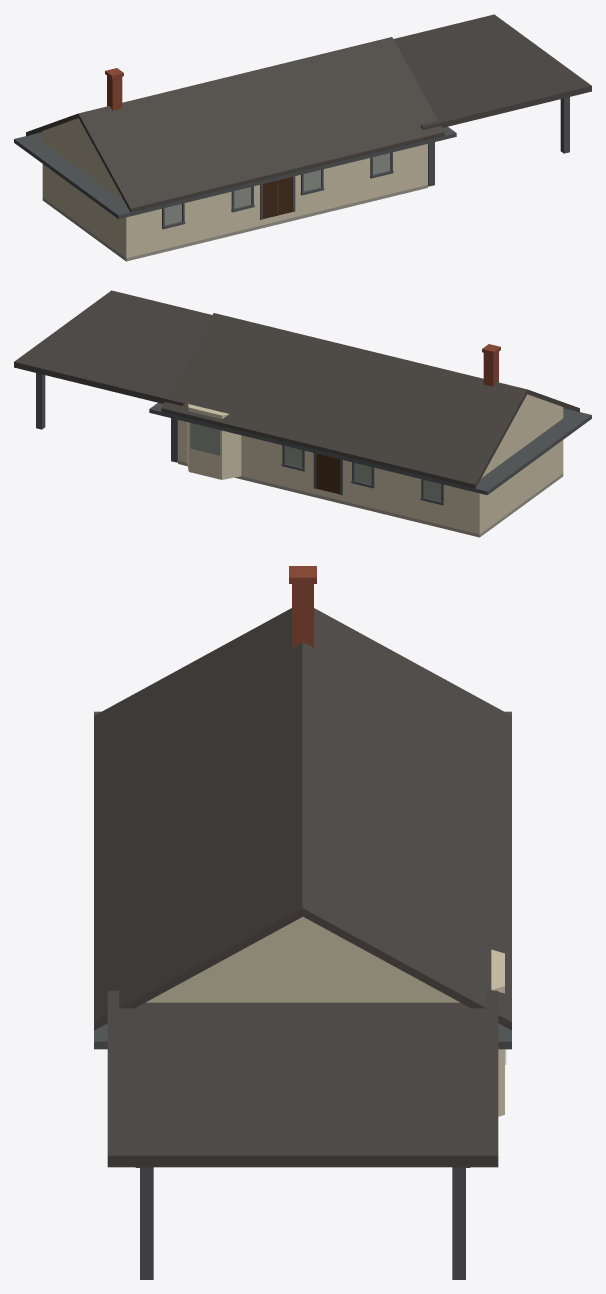
Rendered from Nashotah_Depot.glb.
The picture shows the model from 3 angles, top to bottom: view 1: azimuth 30°, elevation 25°; view 2: azimuth 150°, elevation 25°; view 3: azimuth 270°, elevation 25°; orthographic projection. The views are drawn at different scales.
Visible parts, largest first — view 1: roof, stucco, trim, foundation, glass, doors, sash, chimney; view 2: roof, stucco, trim, glass, foundation, doors, chimney, sash; view 3: roof, stucco, trim, chimney.
Part boxes in pixels (x1,y1,x2,y2): roof: [26, 14, 591, 212]; stucco: [42, 118, 427, 258]; trim: [14, 97, 569, 219]; foundation: [42, 185, 427, 261]; glass: [165, 153, 390, 225]; doors: [263, 177, 292, 218]; sash: [162, 152, 393, 229]; chimney: [105, 68, 123, 110]; roof: [14, 290, 579, 488]; stucco: [178, 394, 563, 534]; trim: [36, 373, 591, 495]; glass: [190, 423, 440, 501]; foundation: [178, 461, 563, 537]; doors: [316, 453, 339, 494]; chimney: [482, 344, 500, 386]; sash: [281, 445, 443, 505]; roof: [94, 608, 511, 1167]; stucco: [146, 917, 504, 1116]; trim: [94, 711, 511, 1279]; chimney: [289, 566, 316, 647].
Size of the model in its own units: 0.8303 by 0.2522 by 0.3153.
